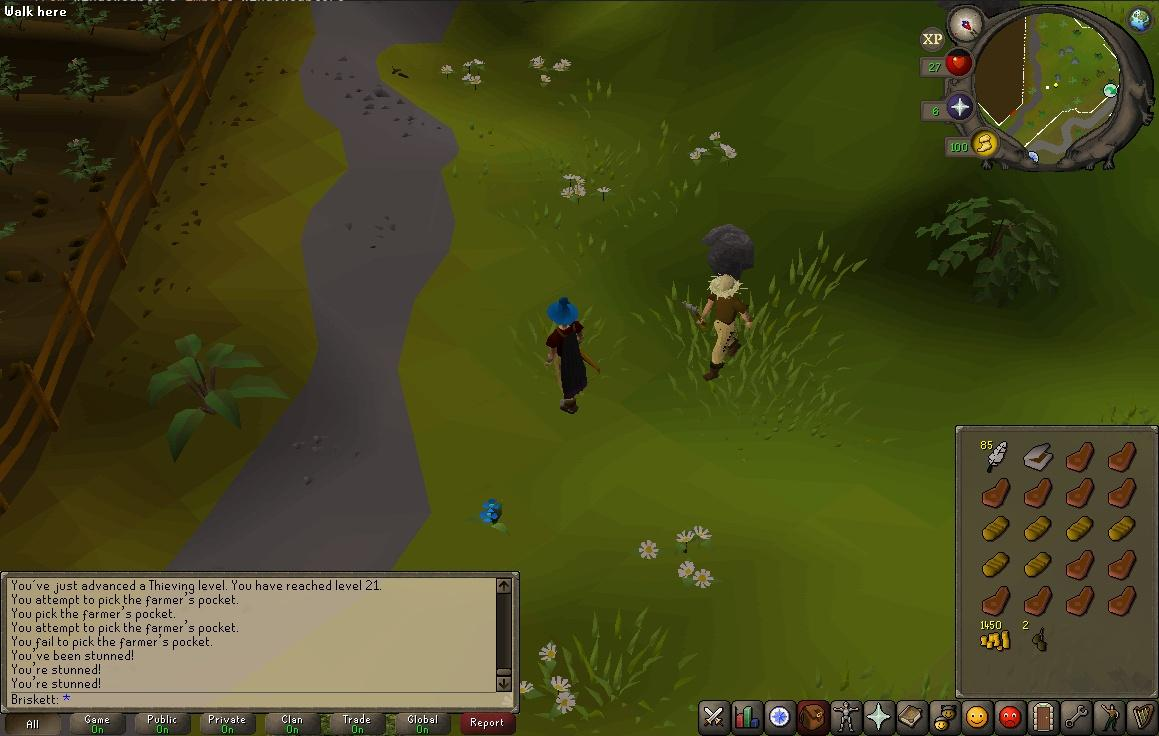Farmer: (689, 274, 753, 385)
